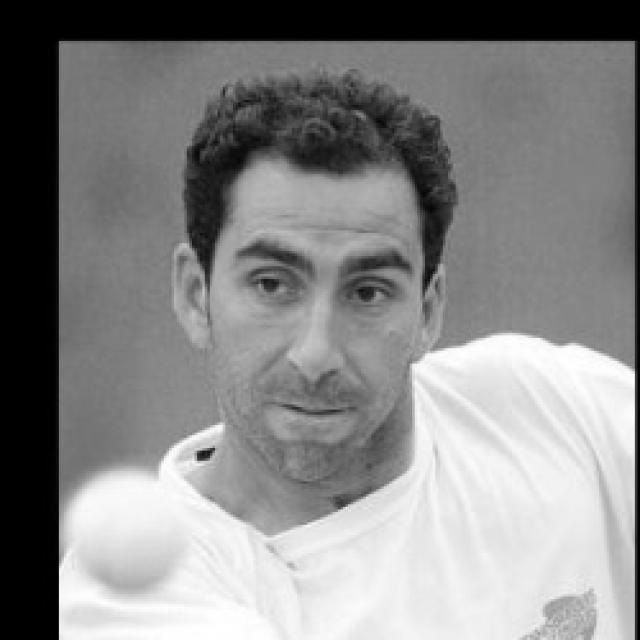real: (193, 131, 439, 492), (225, 262, 403, 323)
